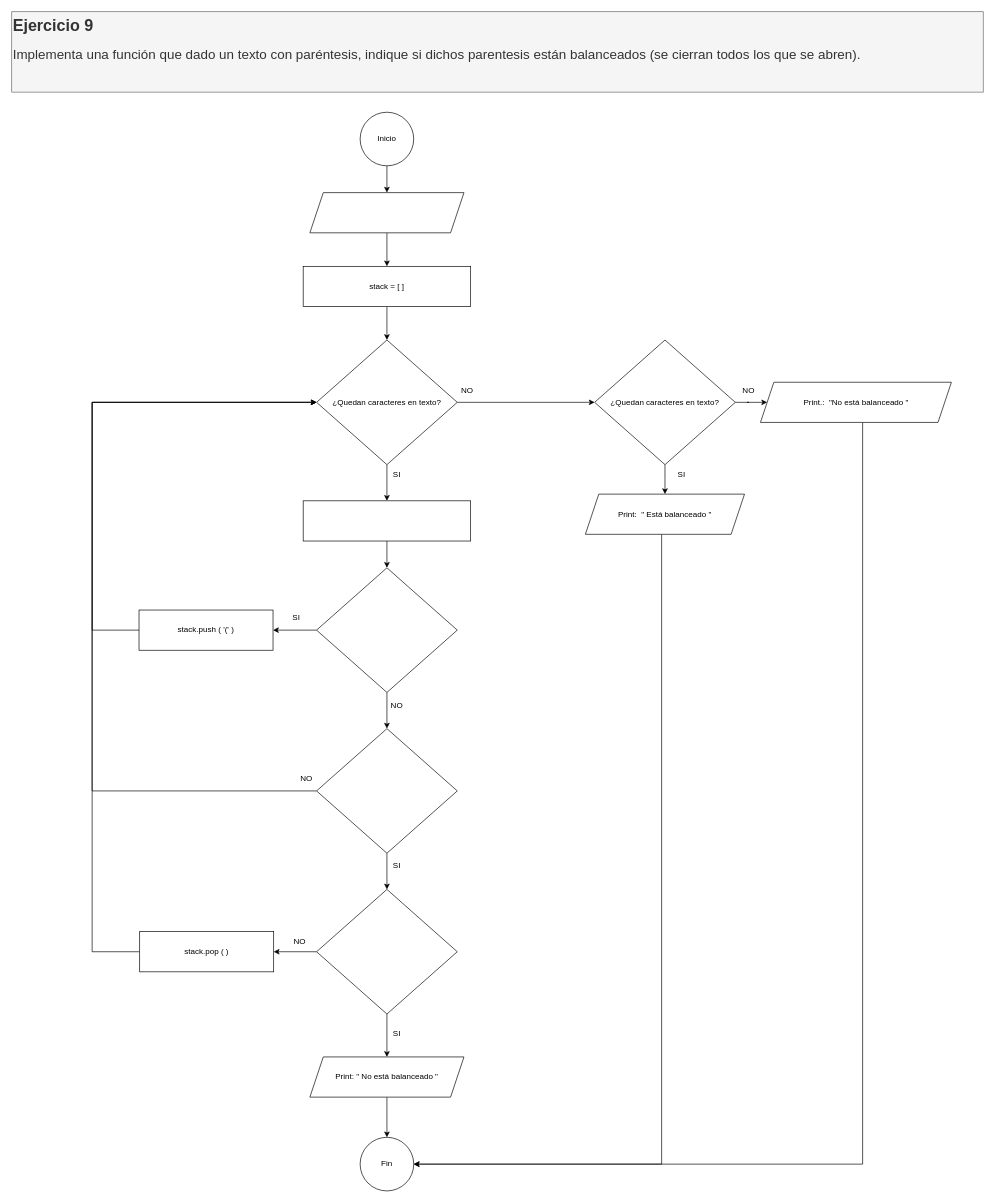
This 995x1203 diagram has some shape labels left out. The box of each missing label's shape, as (x1, y1, x2, y2) in pixels:
Introduce texto: (309, 192, 464, 233)
Leer siguiente caracter: (303, 500, 471, 541)
¿ char = = ' ( ' ?: (316, 567, 457, 692)
¿ char = = ' ) ': (316, 728, 457, 853)
¿ stack.length = = 0 ?: (316, 889, 457, 1014)
